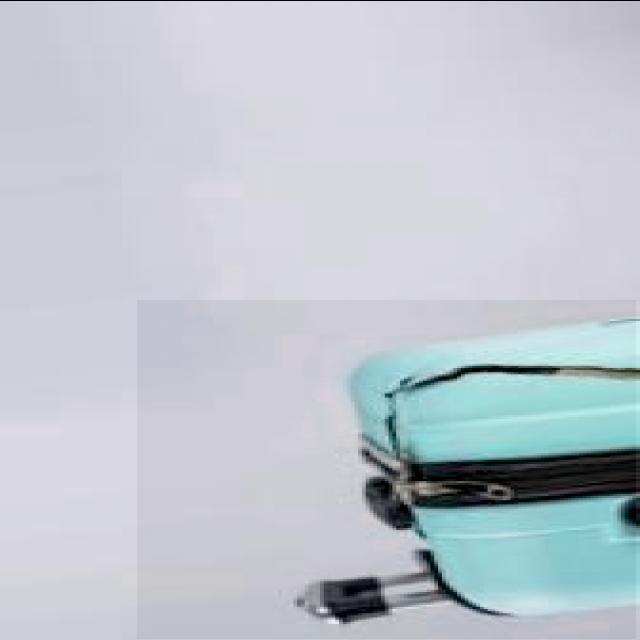Damage-bag: (361, 365, 640, 482), (416, 549, 509, 616)
